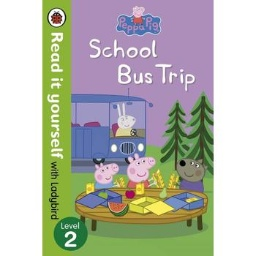Peppa: (124, 153, 157, 190)
